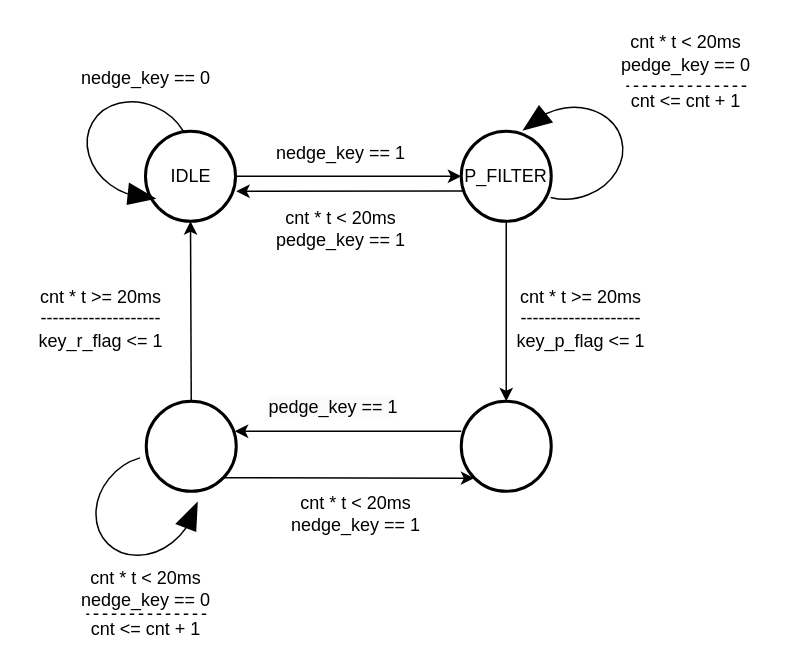
Some shapes in this 786 by 669 pixel diagram are drawn without their labels. Here are the shapes that lost their labels. From the top down, the centre of each, then its label:
[190,445]: R_FILTER
[505,445]: WAIT_R
